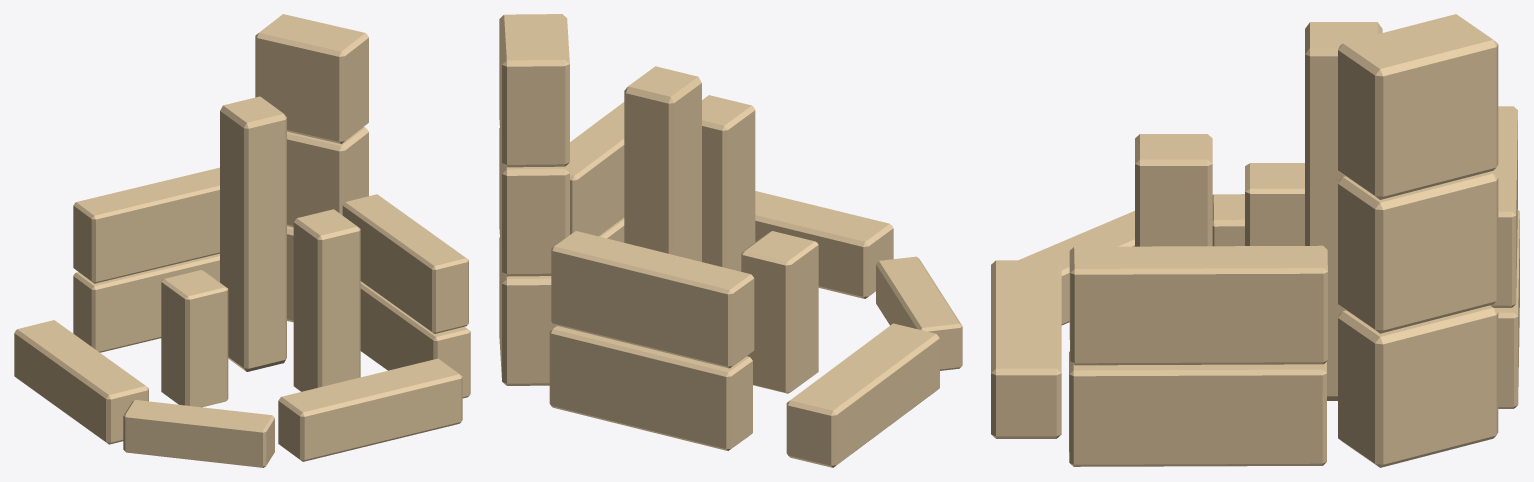
File: zoo_1_d.glb
3 renders of one model, left to right at view 1: azimuth 30°, elevation 25°; view 2: azimuth 150°, elevation 25°; view 3: azimuth 270°, elevation 25°, orthographic. The views are drawn at different scales.
Visible parts, largest first — view 1: COLUMN.013, COLUMN.015, CUBE_LON.002, CUBE_SMOL.009, COLUMN.011, CUBE_LON.004, COLUMN.014, COLUMN.012, COLUMN.016, CUBE_LON.001, CUBE_SMOL.008, CUBE_LON.003 (+1 smaller); view 2: CUBE_LON.002, CUBE_LON.001, COLUMN.013, COLUMN.014, CUBE_SMOL.009, COLUMN.012, COLUMN.011, COLUMN.015, CUBE_SMOL.008, CUBE_LON.004, CUBE_SMOL.001, COLUMN.016; view 3: CUBE_LON.004, CUBE_LON.003, CUBE_SMOL.009, CUBE_SMOL.001, CUBE_SMOL.008, COLUMN.015, COLUMN.013, COLUMN.011, COLUMN.012, CUBE_LON.002, COLUMN.016, CUBE_LON.001 (+1 smaller).
Boxes of the visible parts, bbox=[...] form: COLUMN.013: bbox=[220, 96, 286, 371]; COLUMN.015: bbox=[278, 358, 462, 461]; CUBE_LON.002: bbox=[73, 167, 219, 283]; CUBE_SMOL.009: bbox=[255, 14, 368, 143]; COLUMN.011: bbox=[293, 209, 360, 391]; CUBE_LON.004: bbox=[342, 194, 468, 333]; COLUMN.014: bbox=[14, 320, 148, 444]; COLUMN.012: bbox=[161, 270, 228, 407]; COLUMN.016: bbox=[123, 400, 274, 467]; CUBE_LON.001: bbox=[73, 253, 219, 352]; CUBE_SMOL.008: bbox=[287, 127, 368, 227]; CUBE_LON.003: bbox=[360, 281, 470, 398]; CUBE_LON.002: bbox=[551, 231, 754, 368]; CUBE_LON.001: bbox=[549, 326, 752, 450]; COLUMN.013: bbox=[624, 66, 701, 261]; COLUMN.014: bbox=[786, 323, 939, 467]; CUBE_SMOL.009: bbox=[499, 14, 569, 167]; COLUMN.012: bbox=[741, 231, 818, 393]; COLUMN.011: bbox=[702, 95, 755, 271]; COLUMN.015: bbox=[755, 191, 893, 298]; CUBE_SMOL.008: bbox=[499, 128, 569, 276]; CUBE_LON.004: bbox=[569, 102, 624, 236]; CUBE_SMOL.001: bbox=[499, 237, 556, 385]; COLUMN.016: bbox=[876, 256, 962, 370]; CUBE_LON.004: bbox=[1069, 245, 1327, 365]; CUBE_LON.003: bbox=[1069, 351, 1326, 466]; CUBE_SMOL.009: bbox=[1338, 14, 1498, 199]; CUBE_SMOL.001: bbox=[1338, 305, 1498, 467]; CUBE_SMOL.008: bbox=[1338, 171, 1498, 333]; COLUMN.015: bbox=[991, 260, 1061, 438]; COLUMN.013: bbox=[1305, 22, 1382, 400]; COLUMN.011: bbox=[1135, 134, 1212, 246]; COLUMN.012: bbox=[1245, 163, 1304, 245]; CUBE_LON.002: bbox=[1490, 106, 1517, 307]; COLUMN.016: bbox=[1019, 211, 1134, 325]; CUBE_LON.001: bbox=[1494, 209, 1519, 408].
Bounding box in the file's own units: 11.4 × 9.85 × 11.43.
